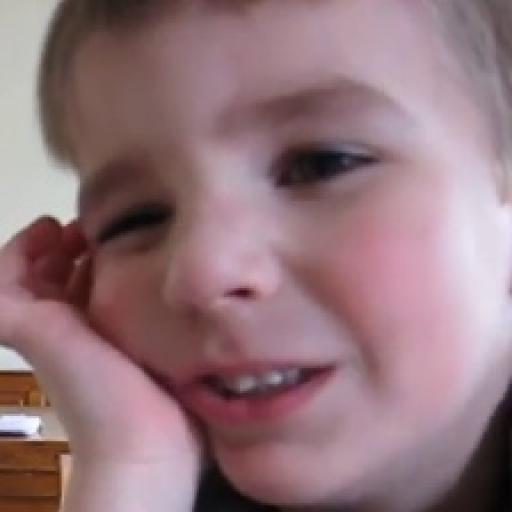Autism: (45, 13, 512, 512)
